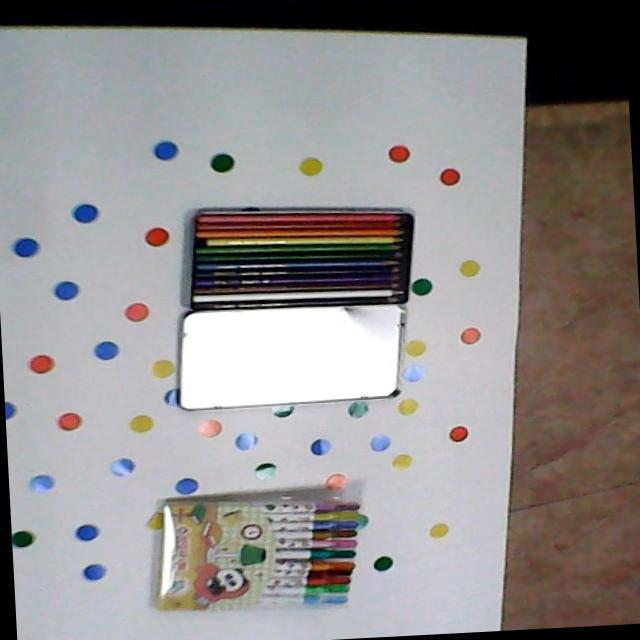color: (184, 203, 420, 318)
signpen: (142, 494, 373, 619)
